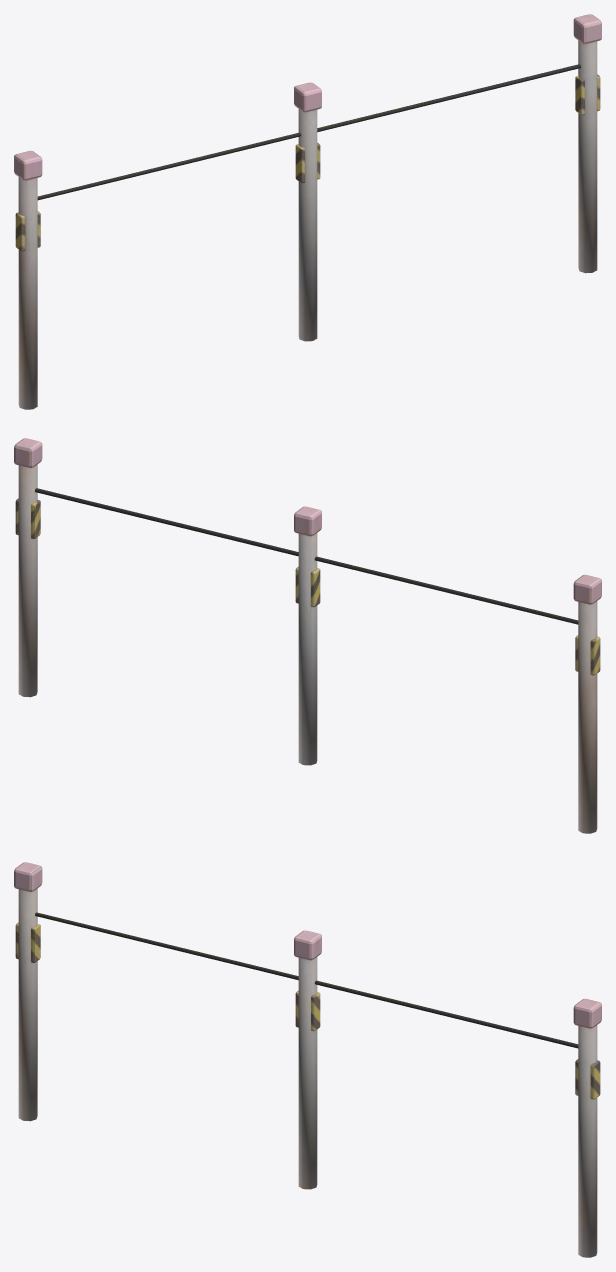
The model's file is fence.glb.
3 views of the same model, one above another, from view 1: azimuth 30°, elevation 25°; view 2: azimuth 150°, elevation 25°; view 3: azimuth 330°, elevation 25° (orthographic).
Parts seen in each view (by area): view 1: fence; view 2: fence; view 3: fence.
Part boxes in pixels (x1,y1,x2,y2): fence: [14, 14, 601, 409]; fence: [14, 438, 601, 833]; fence: [14, 862, 601, 1257].
Size of the model in its own units: 2.07 by 0.855 by 0.07.
Materials: 1 (1 with a texture image).
